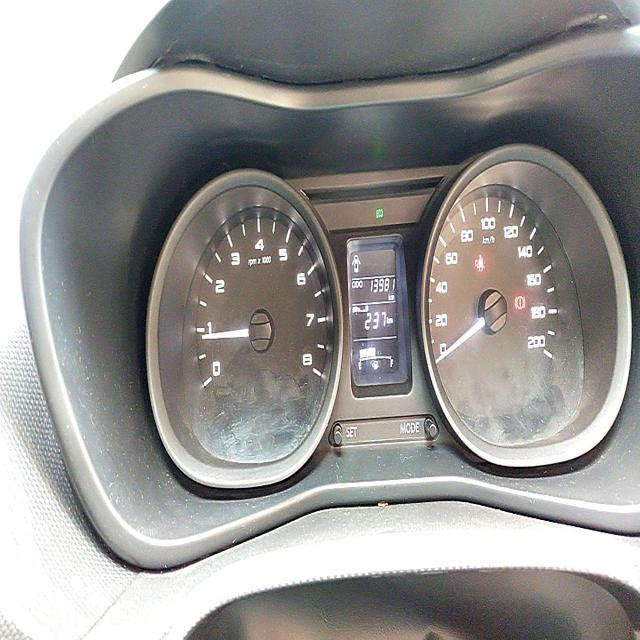odometer: (369, 274, 398, 295)
